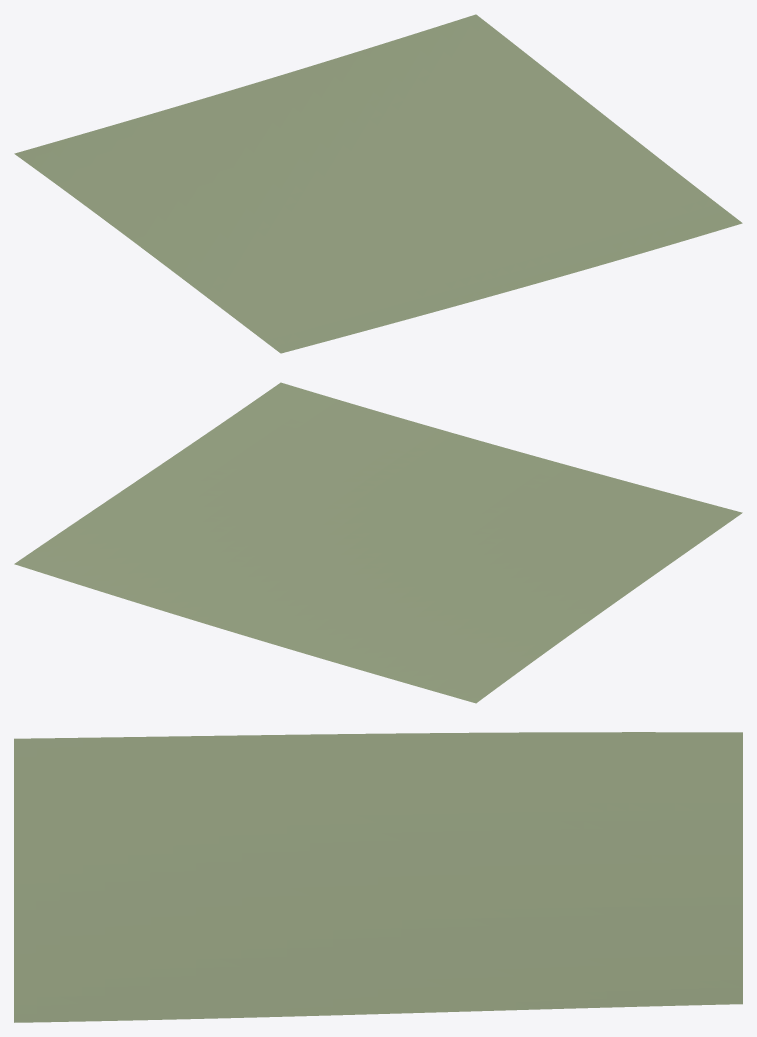
File: expanse-20-16.glb
3 renders of one model, top to bottom at view 1: azimuth 30°, elevation 25°; view 2: azimuth 150°, elevation 25°; view 3: azimuth 270°, elevation 25°, orthographic. The views are drawn at different scales.
Parts seen in each view (by area): view 1: expanse-20-16; view 2: expanse-20-16; view 3: expanse-20-16.
Part boxes in pixels (x1,y1,x2,y2): expanse-20-16: (14, 14, 742, 353); expanse-20-16: (14, 382, 742, 703); expanse-20-16: (14, 732, 742, 1022).
Size of the model in its own units: 256 by 16.52 by 256.
